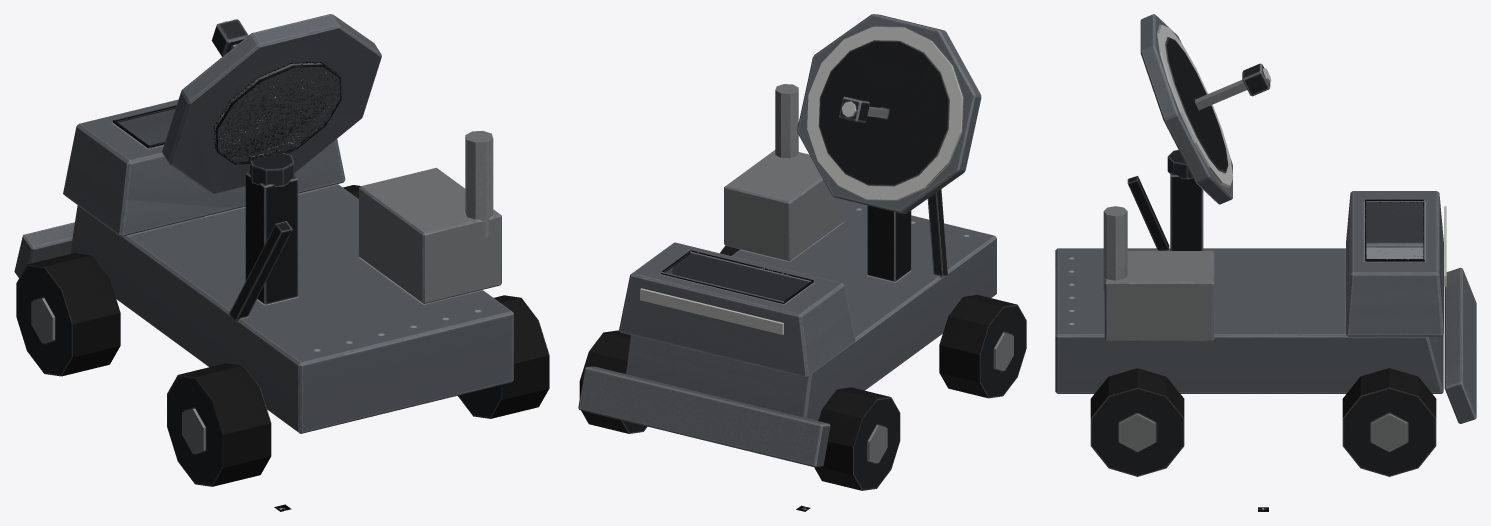
File: chs_watcher.fbx
3 views of the same model, side by side, from view 1: azimuth 30°, elevation 25°; view 2: azimuth 150°, elevation 25°; view 3: azimuth 270°, elevation 25° (orthographic). The views are drawn at different scales.
Parts seen in each view (by area): view 1: base_bar, dish_bar, wheelL2_bar, wheelL1_bar, wheelR2_bar; view 2: base_bar, dish_bar, wheelL2_bar, wheelL1_bar, dish_glow_running_bar, wheelR1_bar, base_glow_running_bar; view 3: base_bar, dish_bar, wheelR1_bar, wheelR2_bar, dish_glow_running_bar.
Boxes of the visible parts, <box> form: base_bar: <box>14,99,513,433</box>; dish_bar: <box>162,14,381,193</box>; wheelL2_bar: <box>167,363,271,486</box>; wheelL1_bar: <box>16,253,120,376</box>; wheelR2_bar: <box>458,295,549,418</box>; base_bar: <box>578,84,996,467</box>; dish_bar: <box>797,14,981,213</box>; wheelL2_bar: <box>939,295,1026,398</box>; wheelL1_bar: <box>814,387,900,490</box>; dish_glow_running_bar: <box>807,27,962,199</box>; wheelR1_bar: <box>579,330,647,433</box>; base_glow_running_bar: <box>640,288,783,334</box>; base_bar: <box>1055,172,1476,423</box>; dish_bar: <box>1140,14,1270,204</box>; wheelR1_bar: <box>1342,368,1436,476</box>; wheelR2_bar: <box>1090,368,1184,476</box>; dish_glow_running_bar: <box>1157,25,1271,186</box>.
Size of the model in its own units: 583 by 920 by 769.
Materials: 2 (2 with a texture image).
